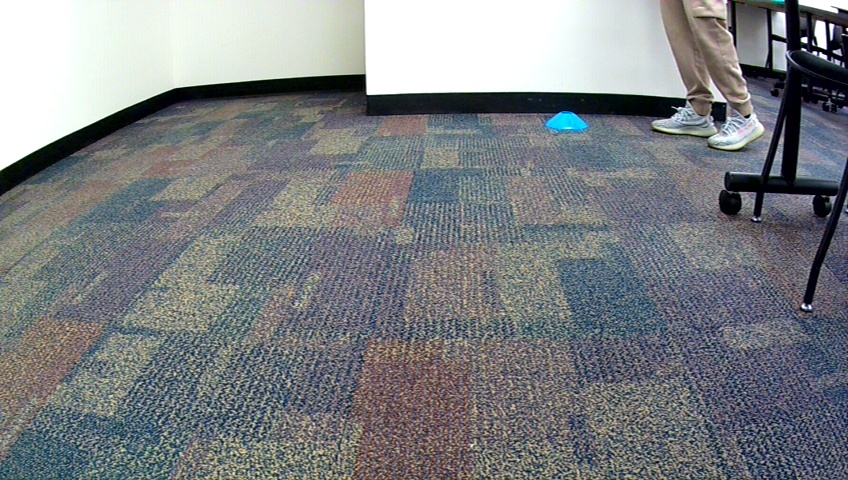cone: (544, 109, 590, 131)
